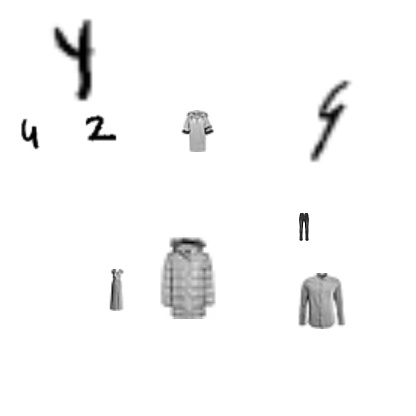2: (77, 109, 119, 151)
4: (23, 0, 135, 112), (8, 113, 50, 155)
5: (342, 80, 356, 94)
9: (271, 61, 383, 173)
Coat: (146, 235, 230, 319)
Dress: (95, 269, 137, 311)
Pullover: (176, 110, 218, 152)
Shirt: (293, 273, 349, 329)
Trouser: (290, 213, 318, 241)
